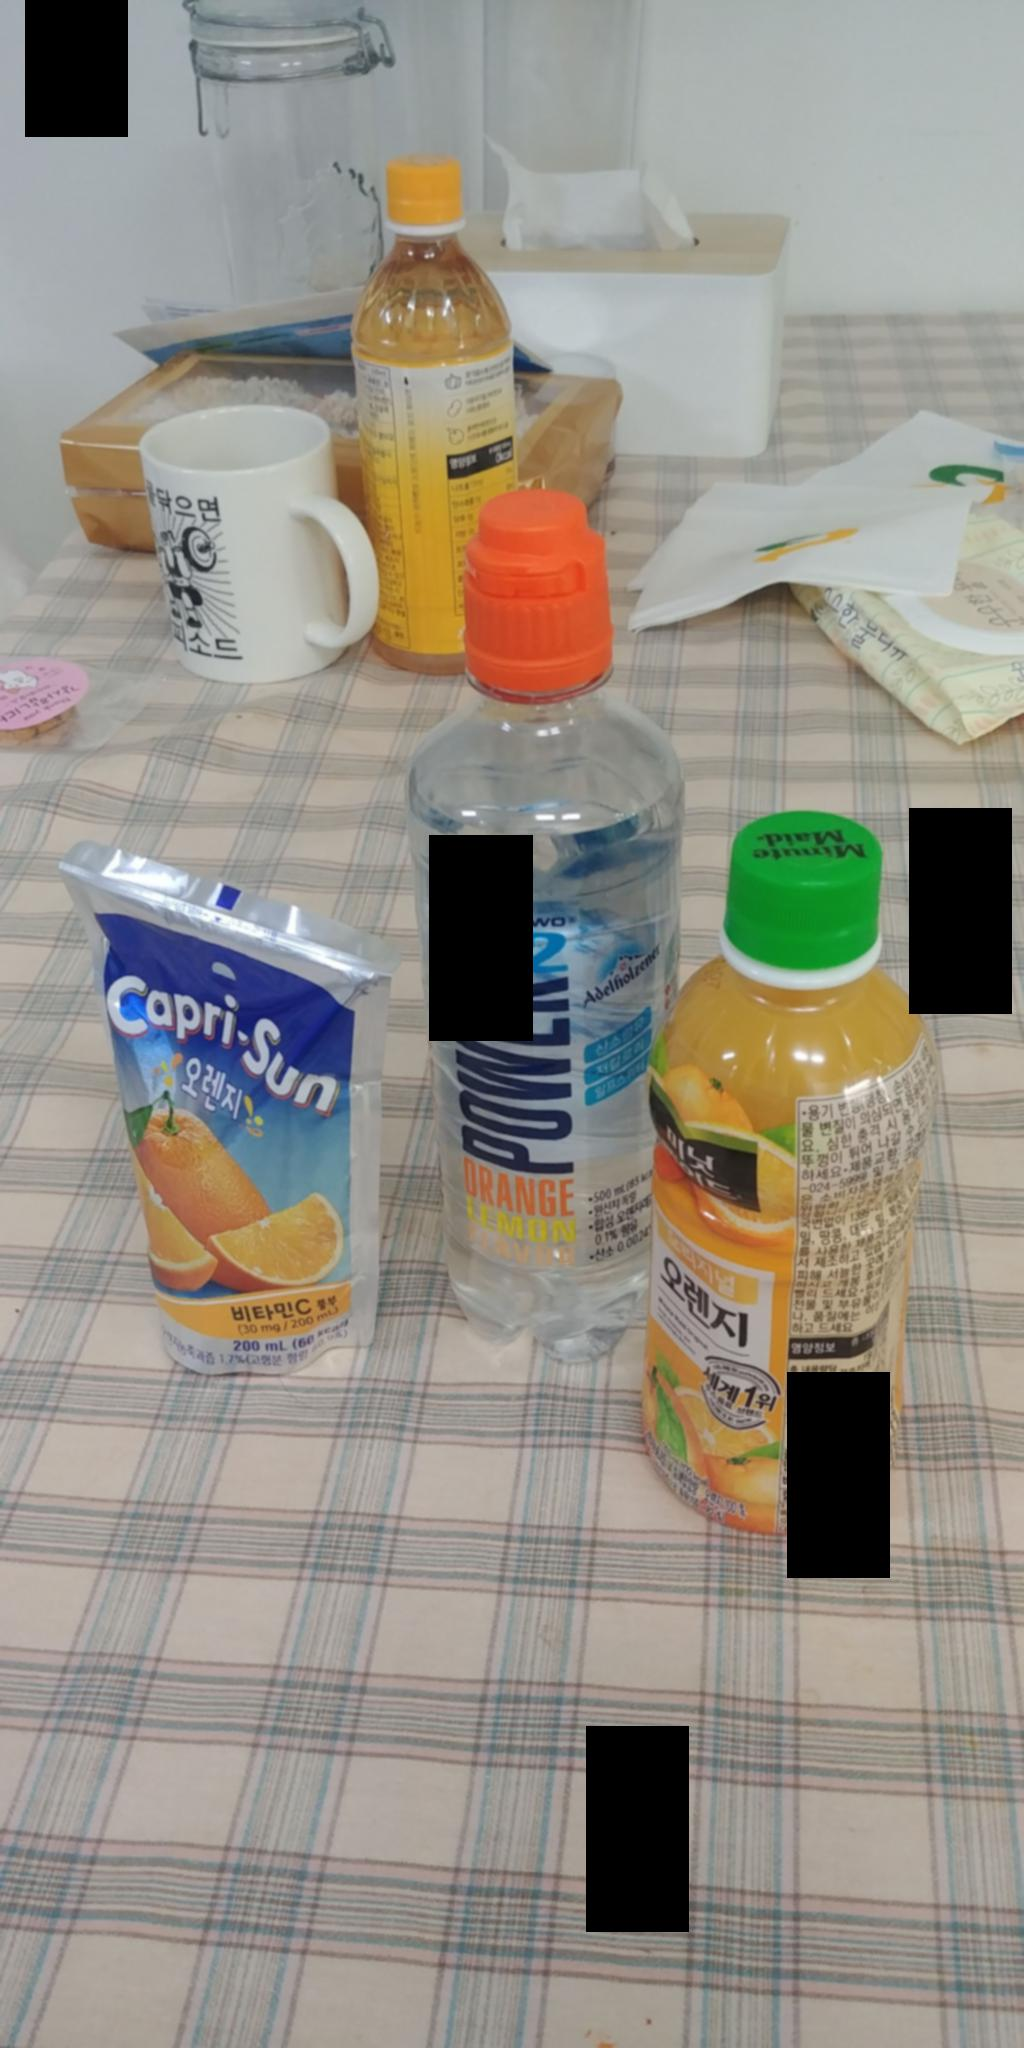cafrisun: (52, 812, 426, 1388)
minutemaid_org_orange: (643, 802, 925, 1533)
powerO2_orange: (393, 477, 701, 1395)
